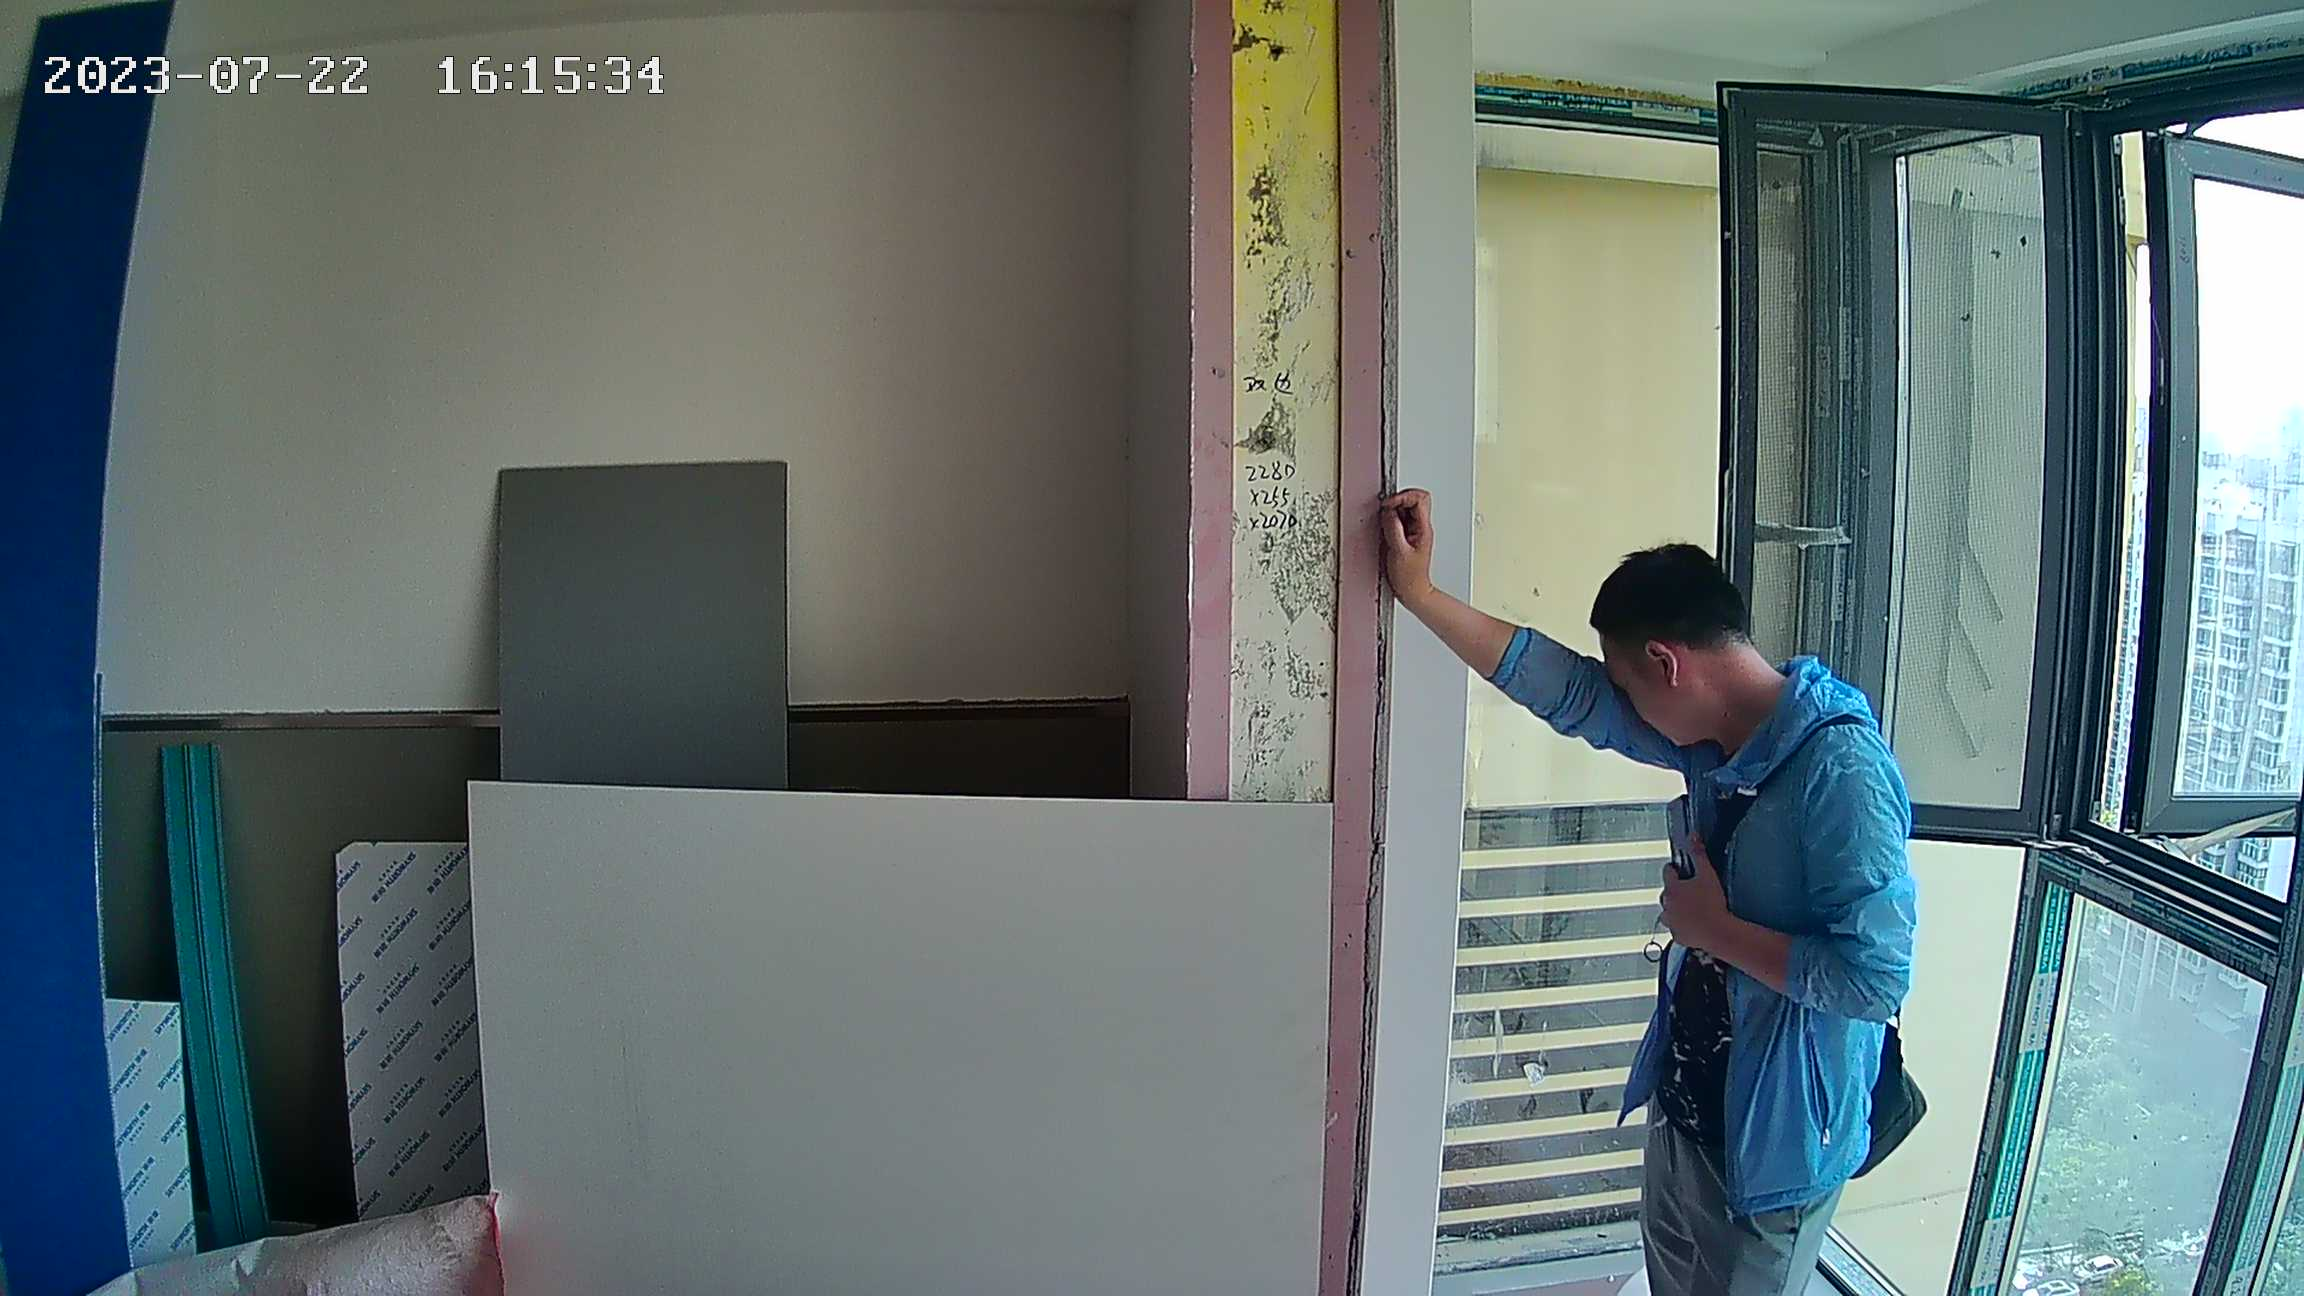people: (1365, 487, 1917, 1296)
window: (1814, 141, 2301, 1296)
